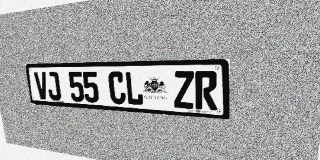5: (82, 71, 100, 103), (68, 72, 85, 102)
C: (108, 71, 126, 105)
J: (46, 72, 62, 101)
L: (124, 71, 144, 106)
R: (195, 71, 218, 110)
V: (34, 72, 49, 100)
Z: (173, 71, 195, 109)
